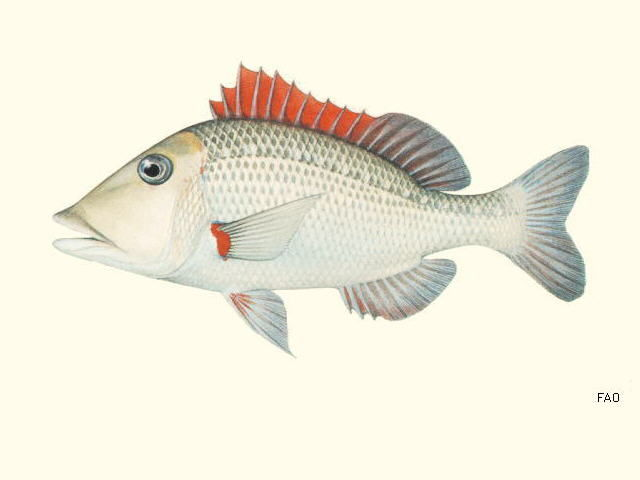fish: (50, 60, 591, 359)
